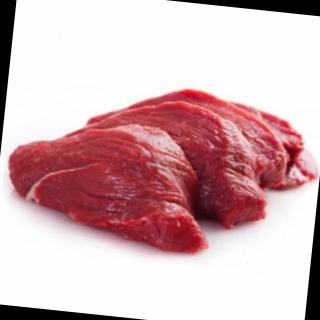Daging Sapi: (1, 71, 320, 267), (1, 115, 219, 254), (78, 93, 279, 228)
